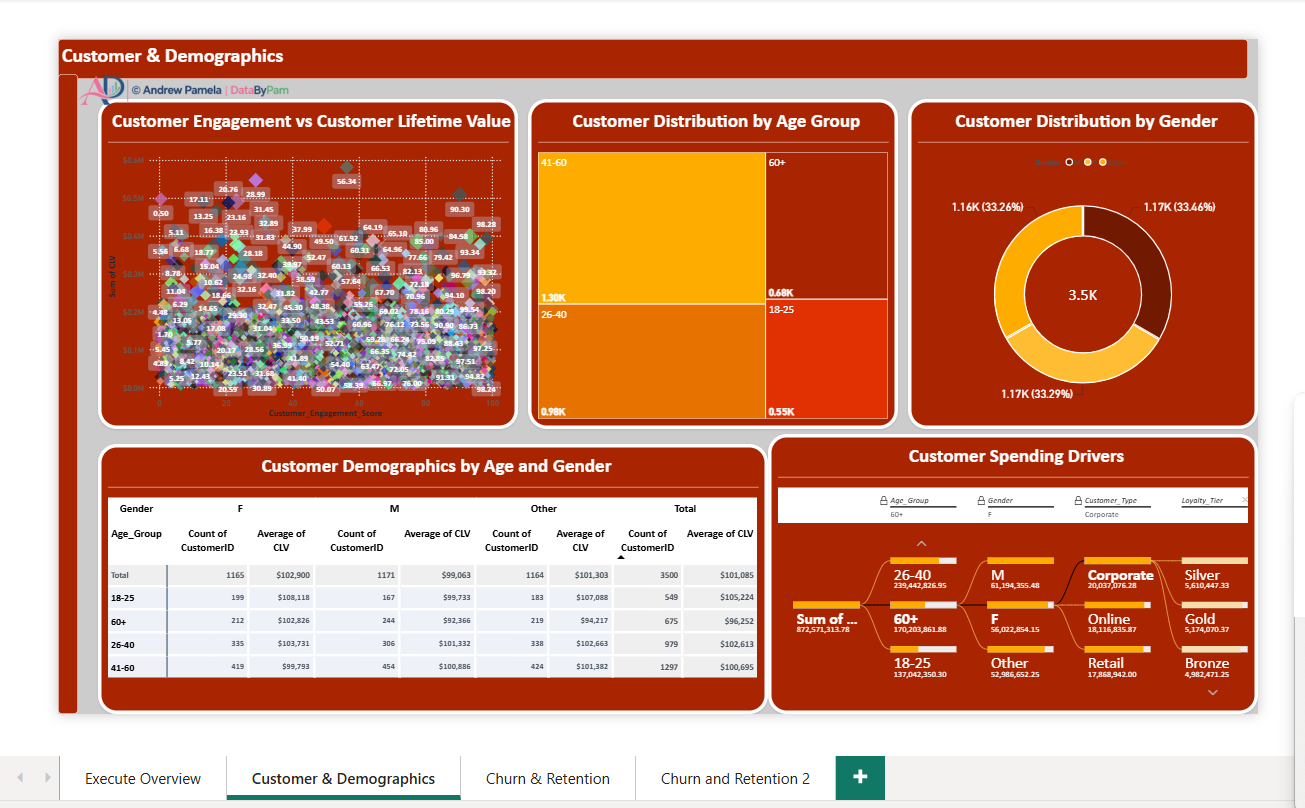

The page's visual inventory and layout, read from the dashboard file:
{"tool":"powerbi","page":{"name":"Customer & Demographics","canvas":[1920,1080],"ordinal":1},"visuals":[{"type":"treemap","title":"Customer Distribution by Age Group","fields":{"Group":["customers.Age_Group"],"Values":["CountNonNull(customers.CustomerID)"]},"box":[752,96,592,528],"z":0},{"type":"textbox","box":[0,0,1904,64],"z":1000},{"type":"donutChart","title":"Customer Distribution by Gender","fields":{"Y":["CountNonNull(customers.CustomerID)"],"Category":["customers.Gender"]},"box":[1360,96,560,528],"z":2000},{"type":"scatterChart","title":"Customer Engagement vs Customer Lifetime Value","fields":{"Y":["Sum(customers.CLV)"],"Size":["Sum(customers.Total_Spending)"],"X":["customers.Customer_Engagement_Score"]},"box":[64,96,672,528],"z":3000},{"type":"decompositionTreeVisual","title":"Customer Spending Drivers","fields":{"ExplainBy":["customers.Age_Group","customers.Gender","customers.Customer_Type","customers.Loyalty_Tier"],"Analyze":["Sum(customers.Total_Spending)"]},"box":[1136,632,784,448],"z":4000},{"type":"pivotTable","title":"Customer Demographics by Age and Gender","fields":{"Rows":["customers.Age_Group"],"Columns":["customers.Gender"],"Values":["Count(customers.CustomerID)","Avg(customers.CLV)"]},"box":[64,648,1072,432],"z":5000},{"type":"textbox","box":[0,56,32,1024],"z":6000},{"type":"image","box":[16,0,368,176],"z":7000}]}

Visuals, with their boxes on the page's 1920x1080 design canvas (x1, y1, x2, y2). These are canvas units, not pixel positions in the 1305x808 screenshot, which may show the page scaled, cropped or inside an application window:
"Customer Distribution by Age Group" treemap: [x1=752, y1=96, x2=1344, y2=624]
textbox: [x1=0, y1=0, x2=1904, y2=64]
"Customer Distribution by Gender" donutChart: [x1=1360, y1=96, x2=1920, y2=624]
"Customer Engagement vs Customer Lifetime Value" scatterChart: [x1=64, y1=96, x2=736, y2=624]
"Customer Spending Drivers" decompositionTreeVisual: [x1=1136, y1=632, x2=1920, y2=1080]
"Customer Demographics by Age and Gender" pivotTable: [x1=64, y1=648, x2=1136, y2=1080]
textbox: [x1=0, y1=56, x2=32, y2=1080]
image: [x1=16, y1=0, x2=384, y2=176]
